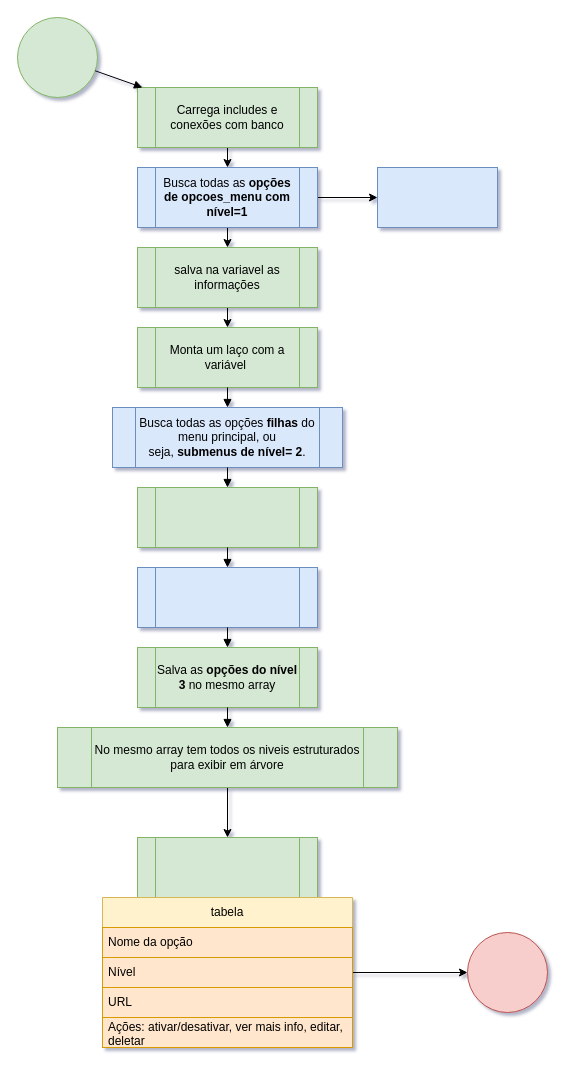
The diagram is 571 pixels wide and 1071 high, and some of its shapes have lost their labels. The box of each missing label's shape, as (x1, y1, x2, y2) in pixels:
Busca os "netos" , ou seja, os submenus de nível= 3: (136, 566, 318, 628)
consulta no banco: (376, 166, 498, 228)
Exibe opções em tabela HTML: (136, 836, 318, 898)
Fim: (466, 932, 548, 1012)
Início: (16, 16, 98, 98)
Salva no array: (136, 486, 318, 548)
